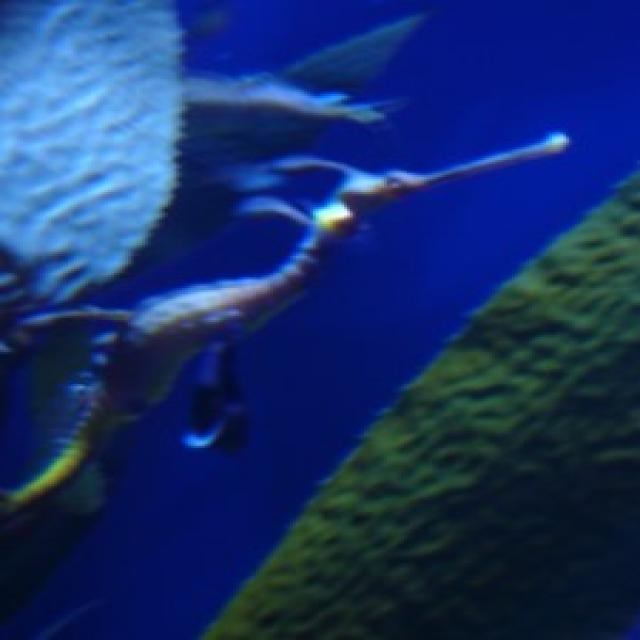Seahorse: (0, 126, 598, 588)
